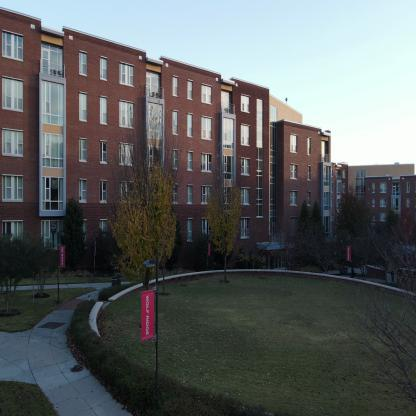Wolf Ridge: (2, 4, 415, 302)
